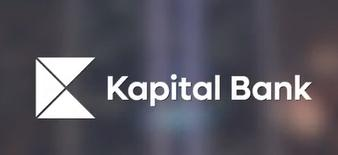Kapital Bank: (32, 53, 98, 120)
